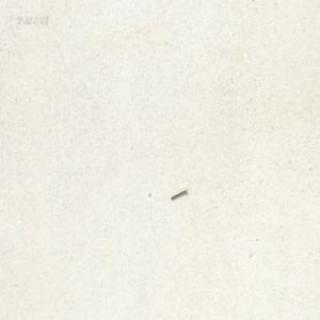Bolttrack_idkeyframe: (169, 186, 186, 199)
